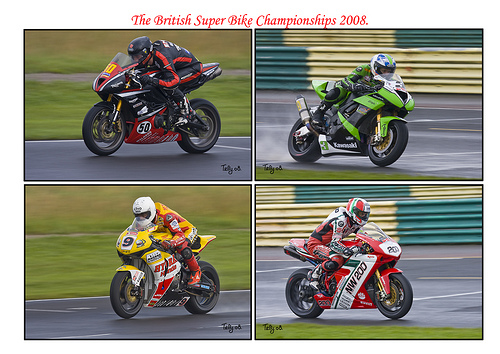helmet: (372, 56, 396, 83), (132, 197, 158, 221), (346, 200, 372, 224), (126, 36, 153, 56)
